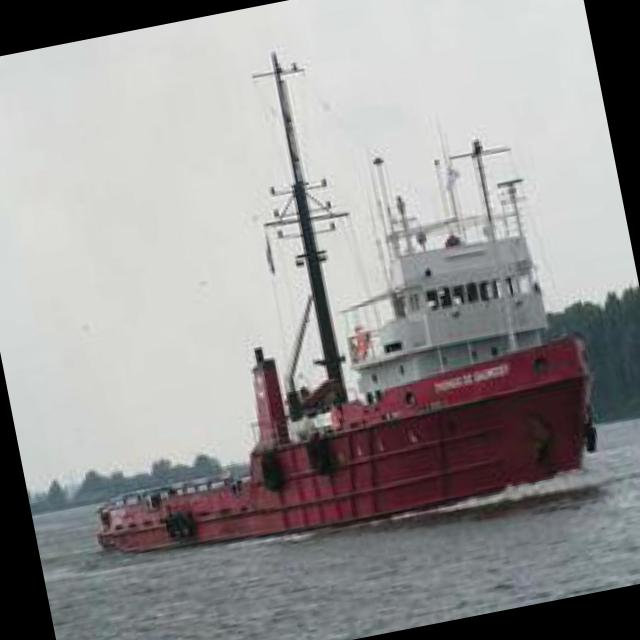boat: (48, 143, 619, 576)
